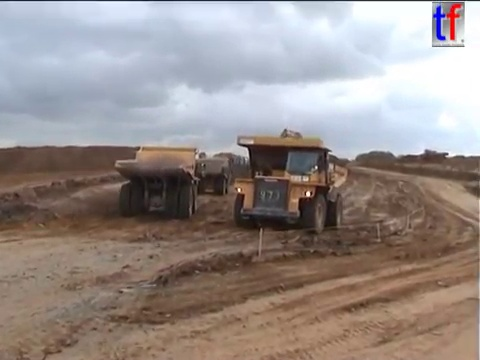excavator: (271, 127, 324, 160)
truck: (231, 135, 351, 235), (112, 143, 208, 220), (188, 155, 237, 196)
